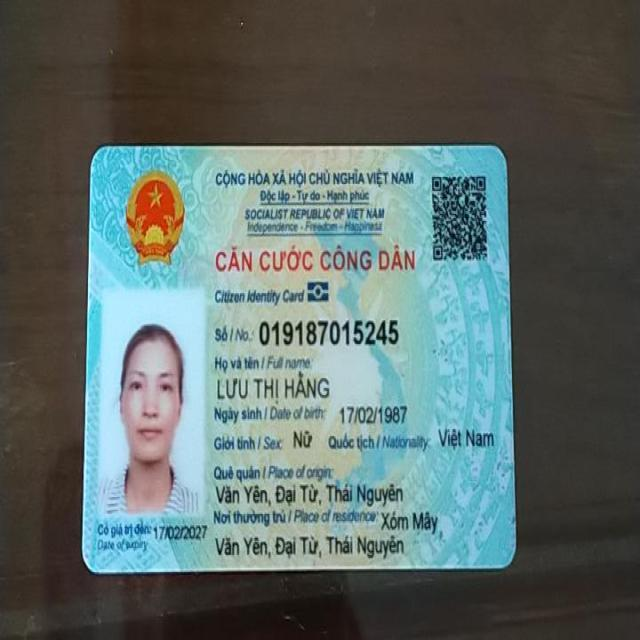bottom_left: (70, 546, 110, 586)
bottom_right: (484, 537, 526, 582)
image_person: (96, 292, 208, 518)
top_left: (80, 134, 120, 178)
top_right: (479, 134, 518, 174)
